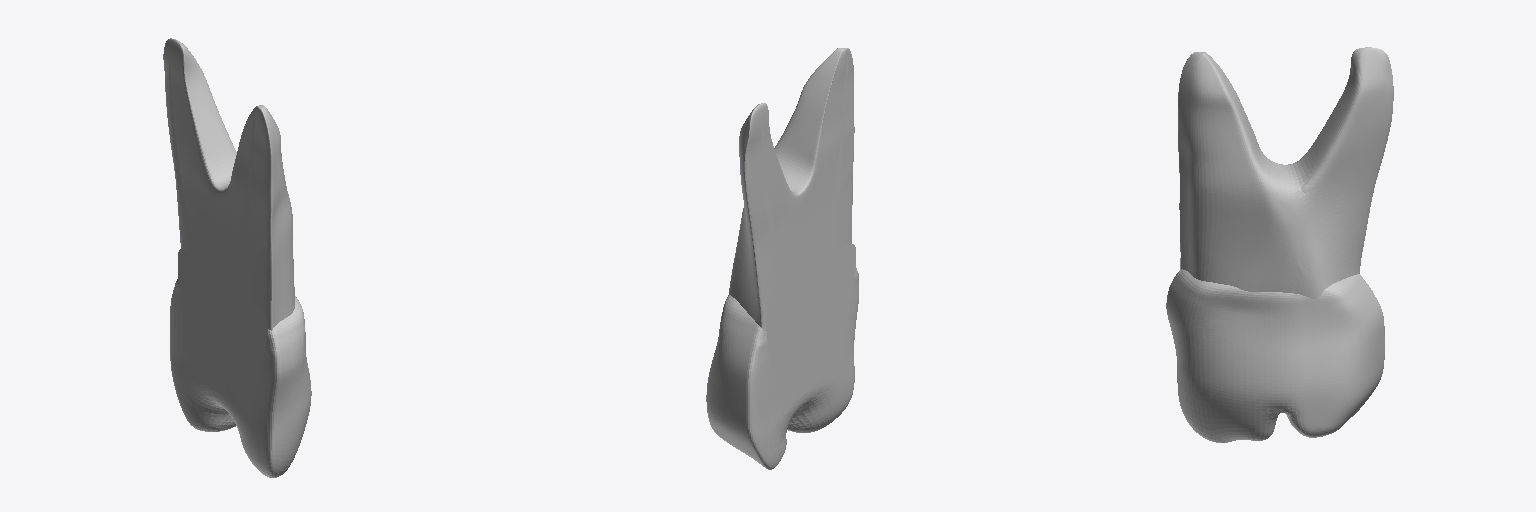
The model's file is Longitudinal.obj.
The picture shows the model from 3 angles: view 1: azimuth 30°, elevation 25°; view 2: azimuth 150°, elevation 25°; view 3: azimuth 270°, elevation 25°; orthographic projection.
Parts seen in each view (by area): view 1: Cylinder, Cylinder.001, Plane, Plane.001; view 2: Cylinder, Cylinder.001, Plane, Plane.001; view 3: Cylinder, Cylinder.001.
Part boxes in pixels (x1,y1,x2,y2): Cylinder: (163, 38, 294, 330); Cylinder.001: (170, 279, 311, 477); Plane: (178, 249, 267, 425); Plane.001: (169, 50, 254, 370); Cylinder: (729, 48, 854, 330); Cylinder.001: (706, 267, 858, 469); Plane: (766, 243, 855, 413); Plane.001: (762, 55, 847, 351); Cylinder: (1178, 47, 1393, 298); Cylinder.001: (1166, 269, 1384, 442).
Bounding box in the file's own units: 1.16 × 5.24 × 2.82.